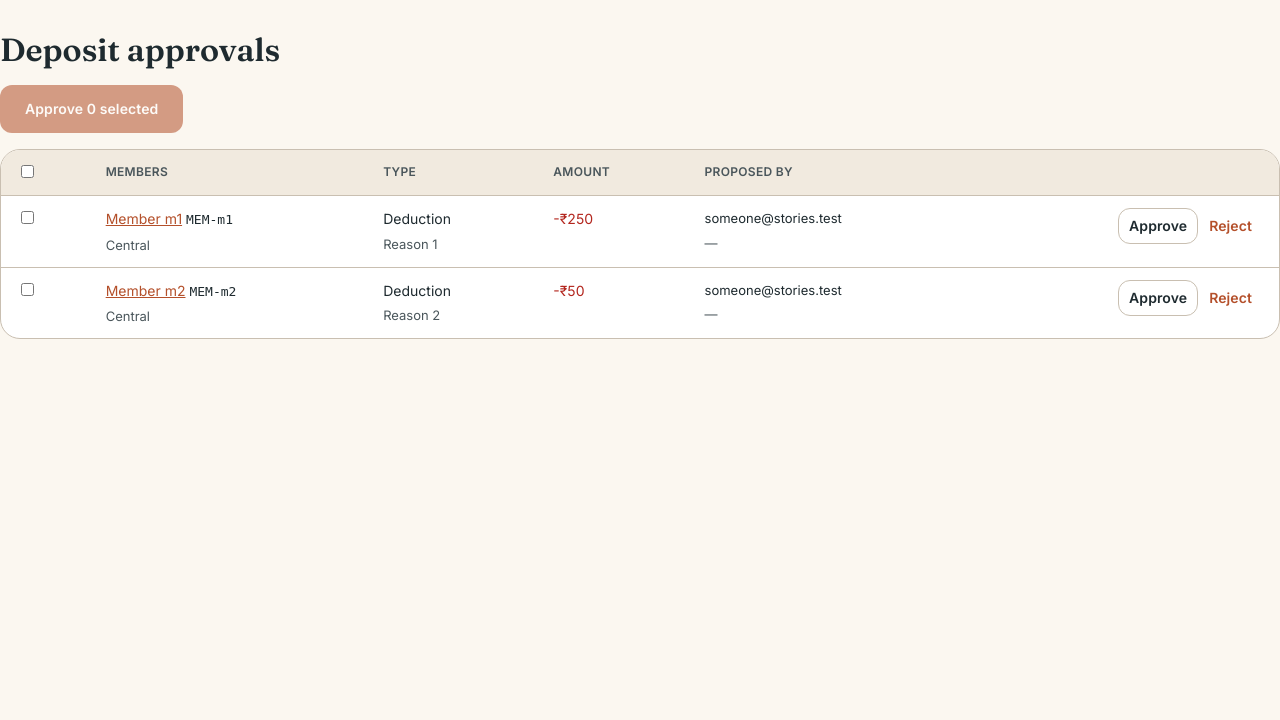
Test: deciding one adjustment › keeps the dialog and the row when the server refuses, and drops a row someone else decided
Check: the heading "Deposit approvals" is shown, box [0,30,280,69]
Click the button "Approve" in the row of "Member m1". click: (1158, 226)
box: [1118,208,1198,244]
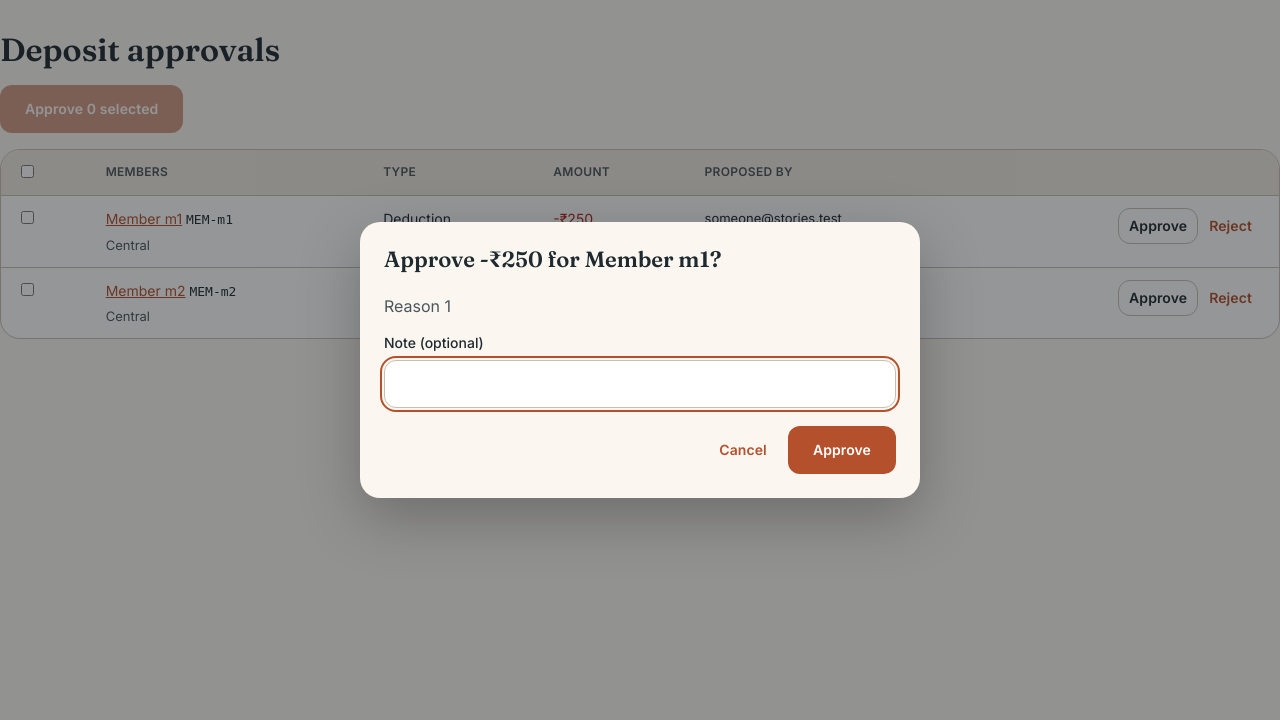
Click the button "Approve". click: (842, 450)
box: [788,426,896,474]
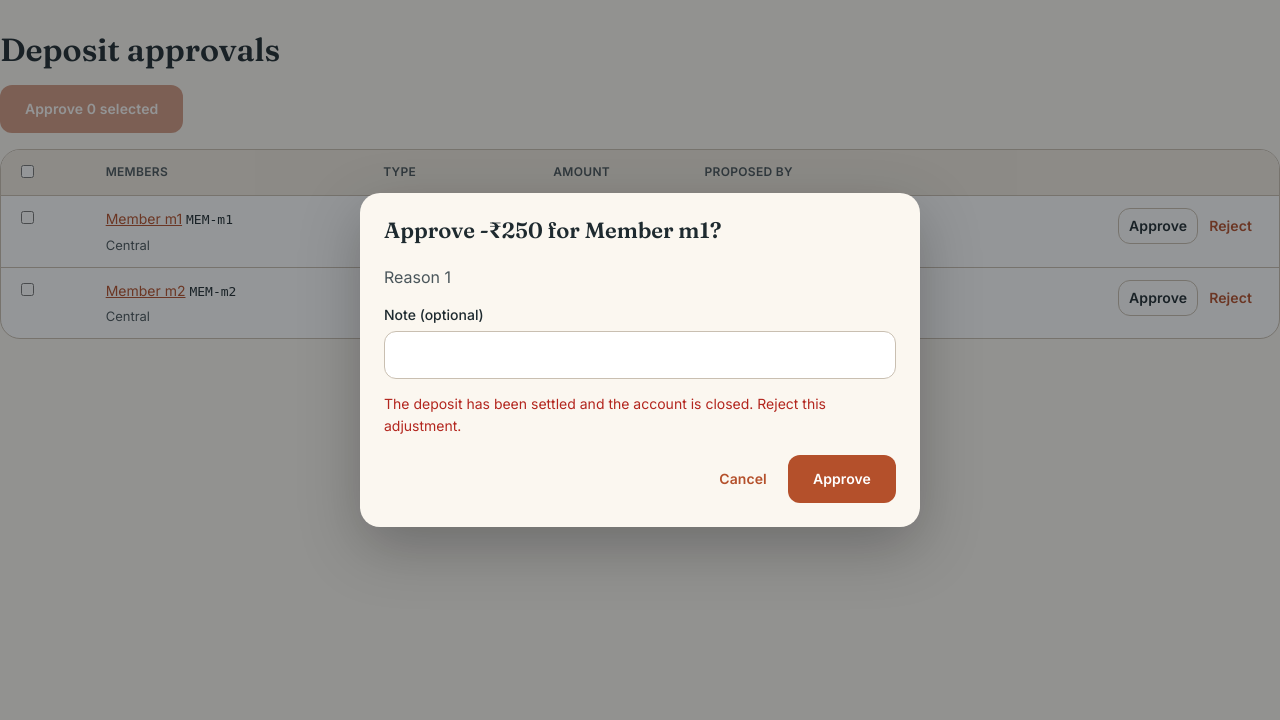
Check: the text "account is closed" is shown, box [384,395,826,434]
Click the button "Cancel". click: (743, 479)
box: [706,455,780,503]
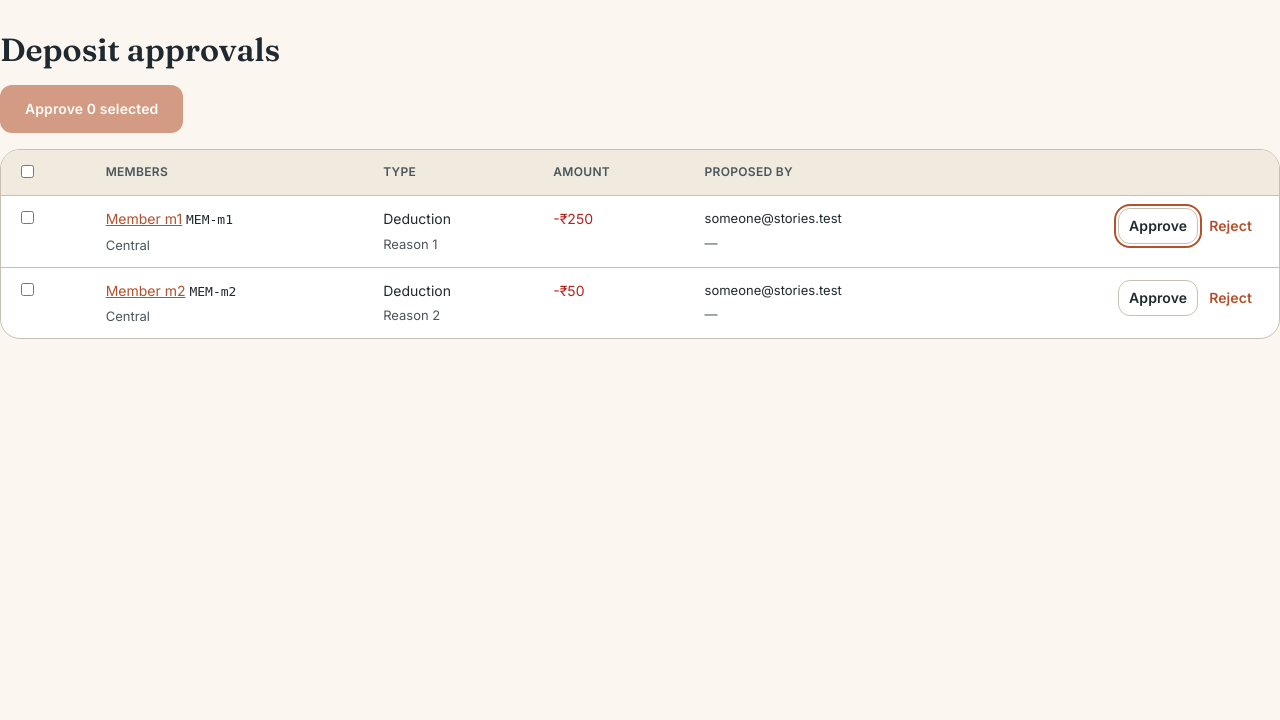
Check: the link "Member m1" is shown, box [106,210,182,227]
Click the button "Approve" in the row of "Member m2". click: (1158, 298)
box: [1118,280,1198,316]
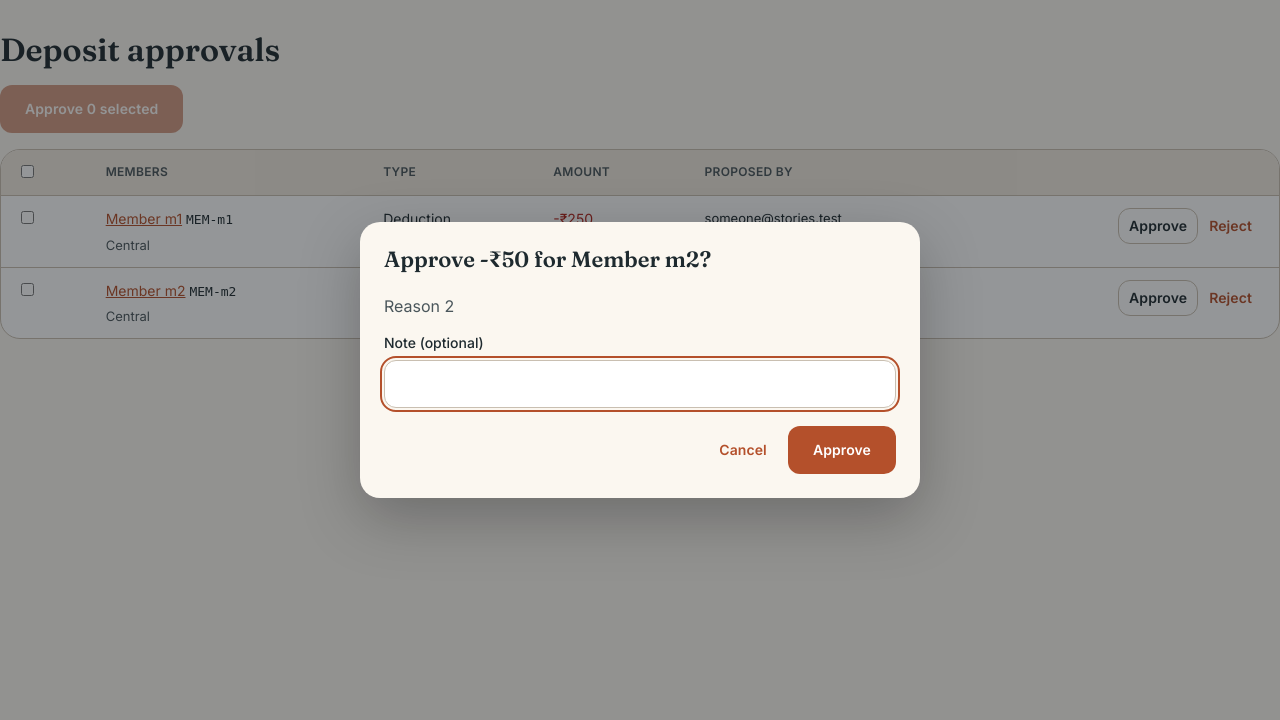
Click the button "Approve". click: (842, 450)
box: [788,426,896,474]
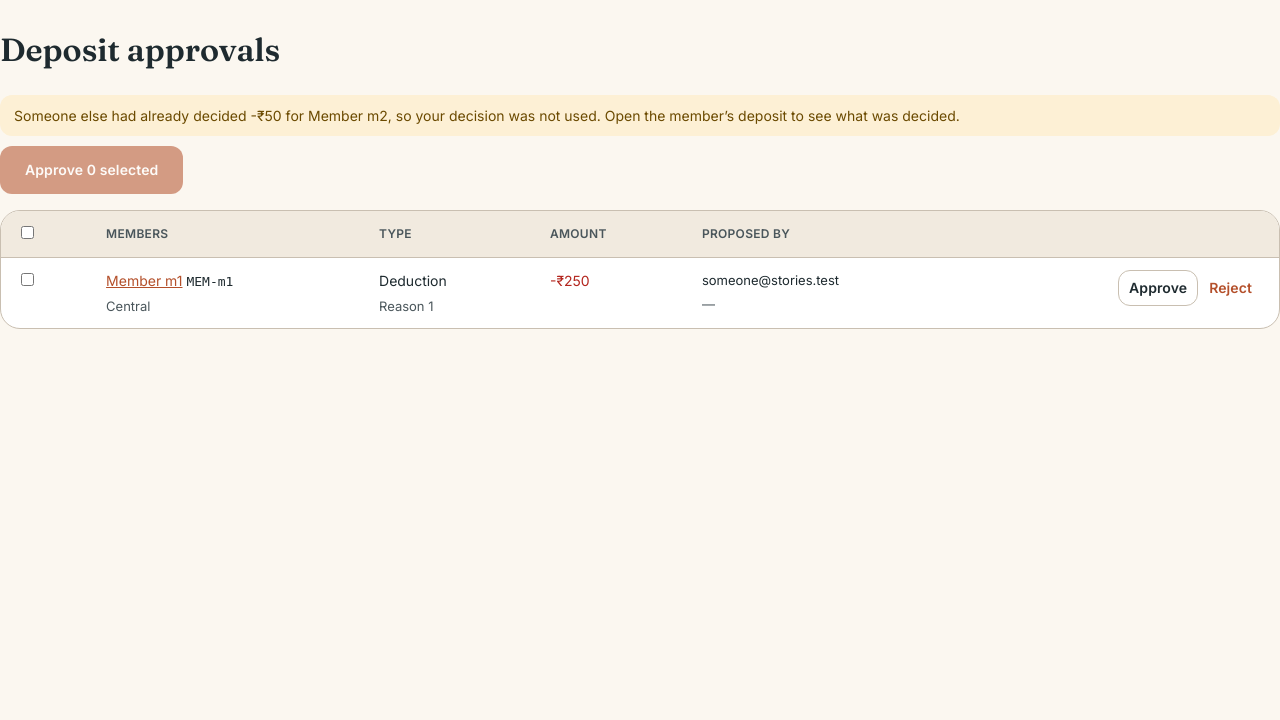
Check: the dialog is gone
